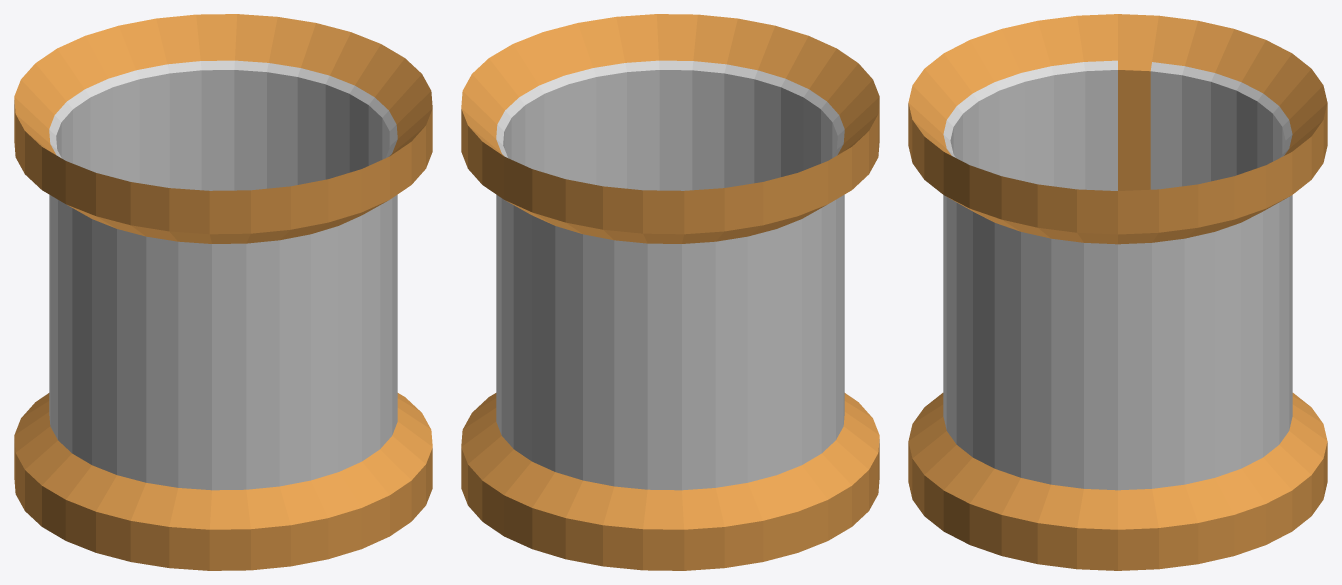
The model's file is tubedoubleanneau.fbx.
3 views of the same model, side by side, from view 1: azimuth 30°, elevation 25°; view 2: azimuth 150°, elevation 25°; view 3: azimuth 270°, elevation 25° (orthographic).
Visible parts, largest first — view 1: Cylinder.002; view 2: Cylinder.002; view 3: Cylinder.002.
Part boxes in pixels (box(x1,y1,x2,y2)): Cylinder.002: box(14, 14, 432, 570); Cylinder.002: box(461, 14, 879, 570); Cylinder.002: box(908, 14, 1327, 570).
Size of the model in its own units: 240 by 240 by 240.
